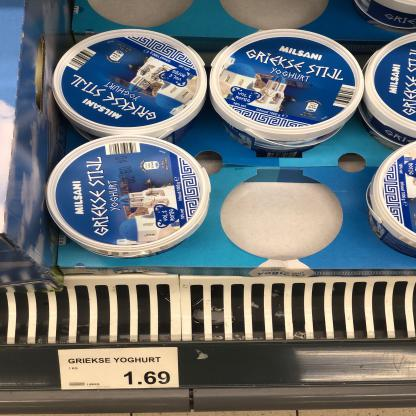prtg: (59, 348, 180, 391)
